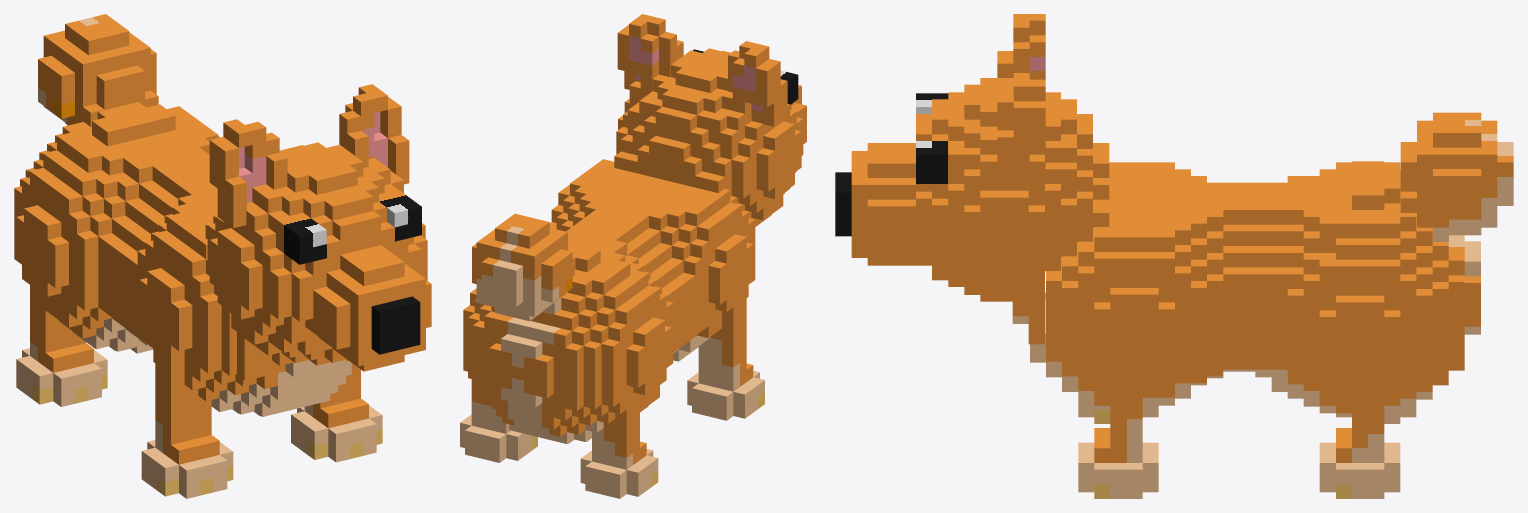
File: dog.dae
The picture shows the model from 3 angles, left to right: view 1: azimuth 30°, elevation 25°; view 2: azimuth 150°, elevation 25°; view 3: azimuth 270°, elevation 25°; orthographic projection. The views are drawn at different scales.
Parts seen in each view (by area): view 1: Body-local, Head-local, Tail-local, Ear_R-local, Ear_L-local; view 2: Body-local, Head-local, Tail-local, Ear_L-local, Ear_R-local; view 3: Body-local, Head-local, Tail-local, Ear_L-local, Ear_R-local.
Boxes of the visible parts, x1=… form: Body-local: x1=14, y1=102, x2=382, y2=498; Head-local: x1=205, y1=142, x2=431, y2=380; Tail-local: x1=38, y1=14, x2=158, y2=126; Ear_R-local: x1=209, y1=119, x2=287, y2=228; Ear_L-local: x1=339, y1=84, x2=409, y2=184; Body-local: x1=460, y1=159, x2=764, y2=498; Head-local: x1=614, y1=48, x2=806, y2=226; Tail-local: x1=472, y1=213, x2=574, y2=321; Ear_L-local: x1=617, y1=14, x2=683, y2=99; Ear_R-local: x1=728, y1=41, x2=787, y2=126; Body-local: x1=1030, y1=161, x2=1480, y2=498; Head-local: x1=835, y1=78, x2=1109, y2=344; Tail-local: x1=1400, y1=112, x2=1513, y2=241; Ear_L-local: x1=997, y1=73, x2=1045, y2=180; Ear_R-local: x1=997, y1=14, x2=1045, y2=79.
Bounding box in the file's own units: 16 × 27.09 × 42.1.
5 materials, 5 textured.
